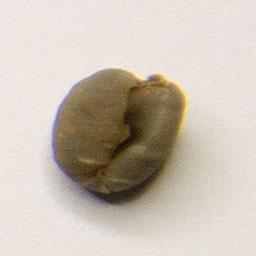peaberry: (46, 64, 189, 198)
